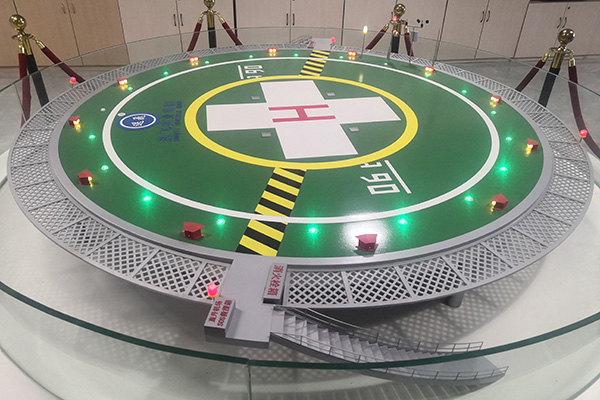H: (270, 103, 337, 124)
